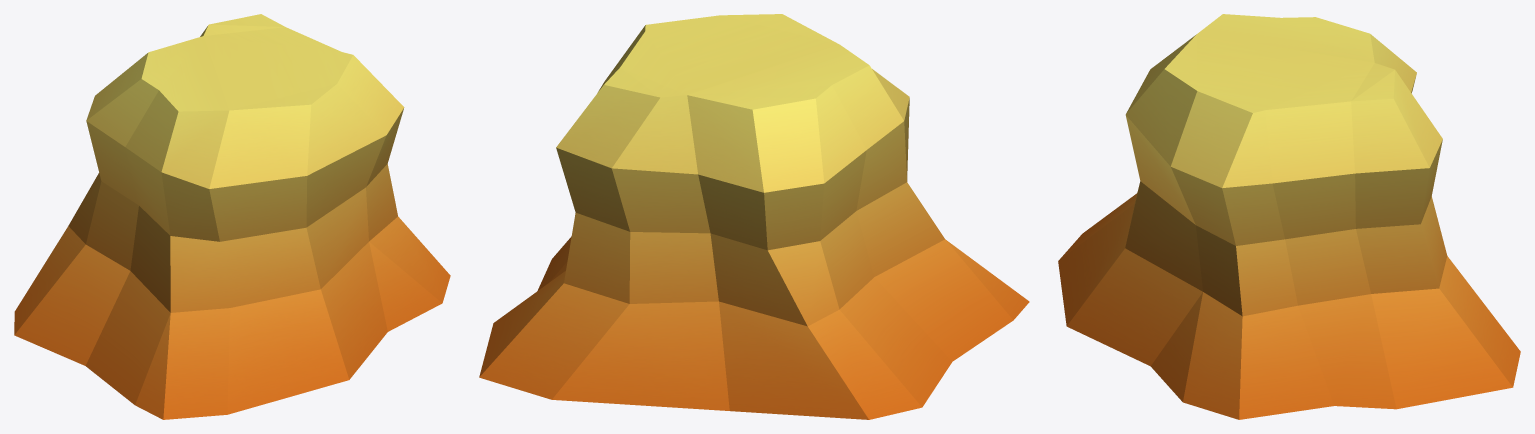
The model's file is M_mountain_B.fbx.
The picture shows the model from 3 angles, left to right: view 1: azimuth 30°, elevation 25°; view 2: azimuth 150°, elevation 25°; view 3: azimuth 270°, elevation 25°; orthographic projection. The views are drawn at different scales.
Visible parts, largest first — view 1: mountain_B; view 2: mountain_B; view 3: mountain_B.
Part boxes in pixels (bbox=[...]): mountain_B: bbox=[14, 14, 450, 419]; mountain_B: bbox=[479, 14, 1029, 419]; mountain_B: bbox=[1058, 14, 1520, 419].
Bounding box in the file's own units: 2890 × 1745 × 2769.
